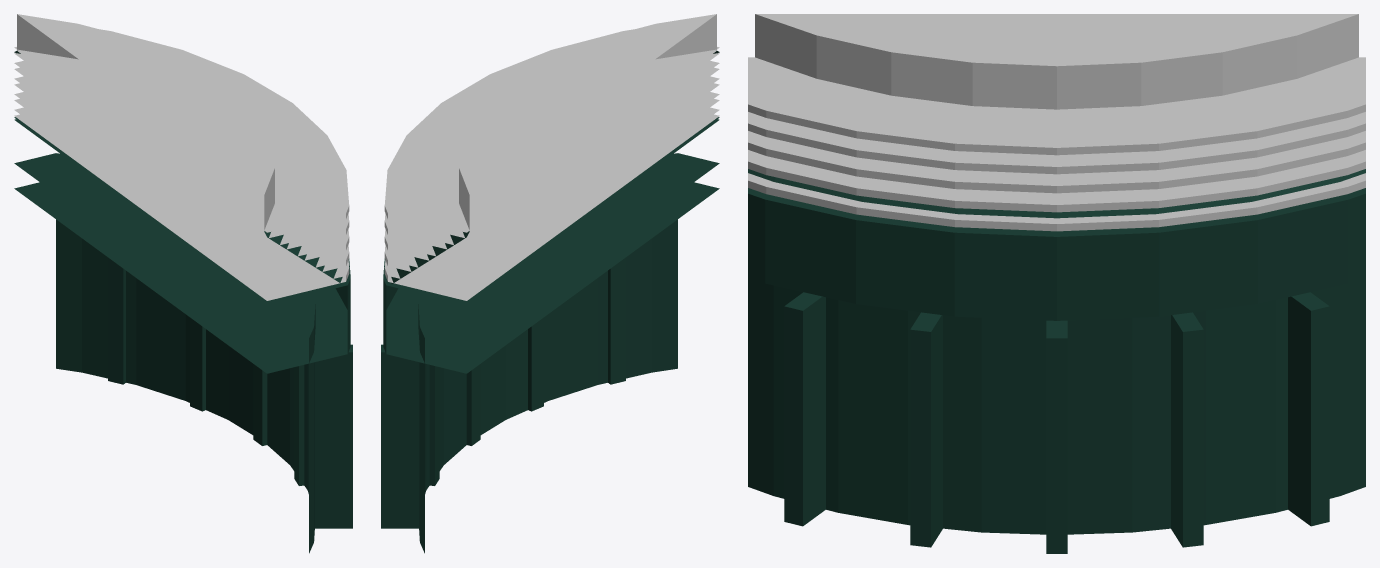
Rendered from cell_50.obj.
The picture shows the model from 3 angles, left to right: view 1: azimuth 30°, elevation 25°; view 2: azimuth 150°, elevation 25°; view 3: azimuth 270°, elevation 25°; orthographic projection. The views are drawn at different scales.
Bounding box in the file's own units: 0.3525 × 0.8 × 1.
